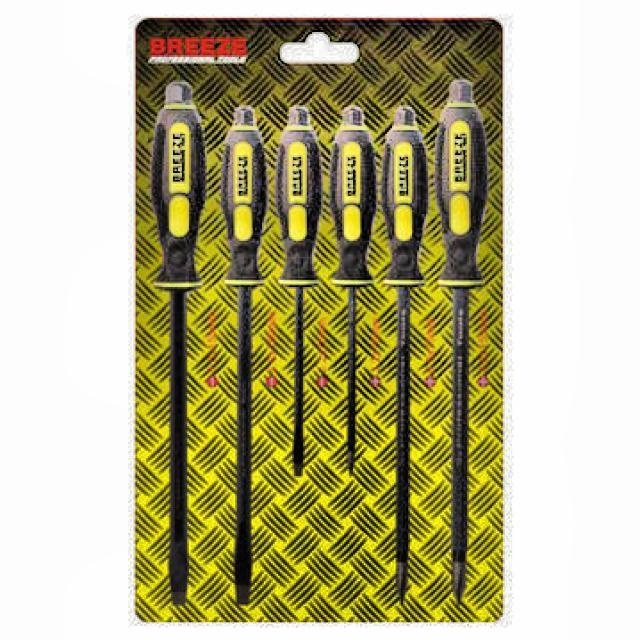screwdriver: (152, 83, 208, 606), (433, 82, 488, 606), (382, 109, 427, 604), (223, 107, 266, 604), (331, 106, 378, 473), (280, 107, 318, 475)
